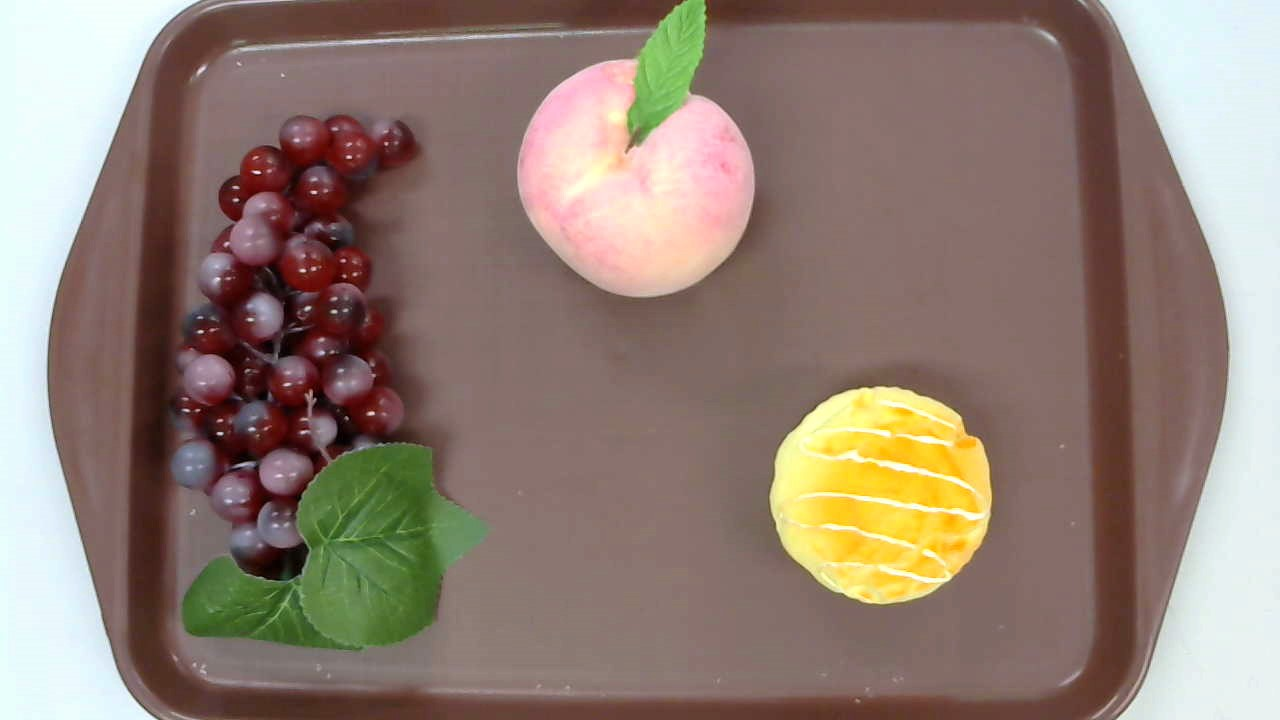cupcake: (769, 386, 992, 604)
grape: (164, 115, 495, 653)
peach: (516, 1, 756, 298)
